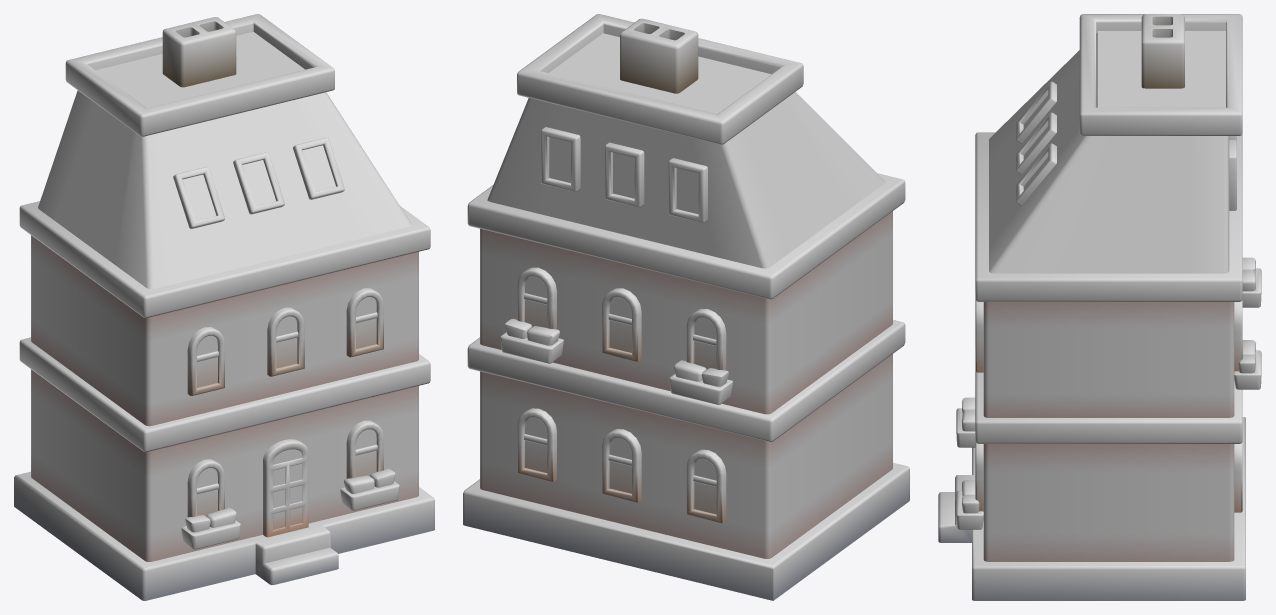
Rendered from NF_Bld_Apartment 04.fbx.
3 renders of one model, left to right at view 1: azimuth 30°, elevation 25°; view 2: azimuth 150°, elevation 25°; view 3: azimuth 270°, elevation 25°, orthographic. The views are drawn at different scales.
Visible parts, largest first — view 1: Apart_04; view 2: Apart_04; view 3: Apart_04.
Boxes of the visible parts, bbox=[...] form: Apart_04: bbox=[14, 14, 434, 600]; Apart_04: bbox=[463, 14, 909, 600]; Apart_04: bbox=[938, 14, 1261, 600].
Bounding box in the file's own units: 8.56 × 13.16 × 7.73.
